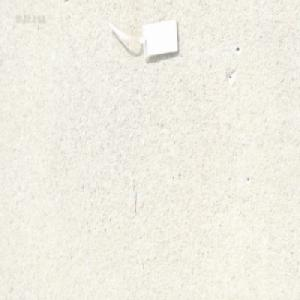LuggageTag: (106, 16, 179, 63)
